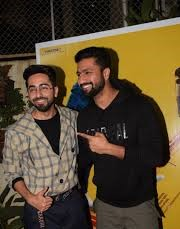Bad: (3, 47, 169, 229)
